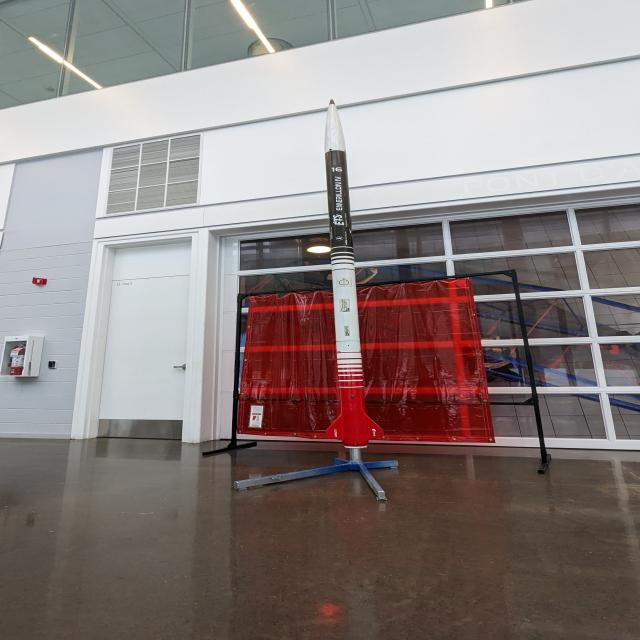Rocket: (324, 99, 383, 449)
